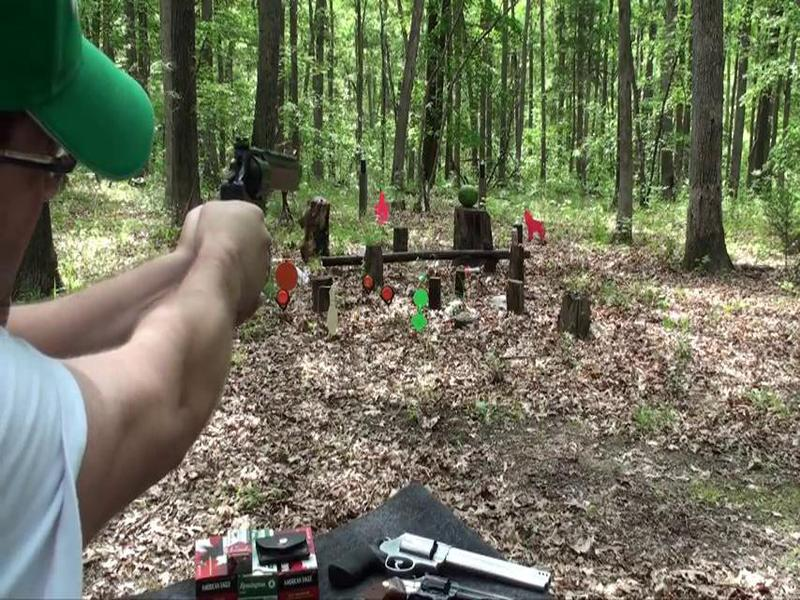Revolver: (208, 117, 321, 227)
